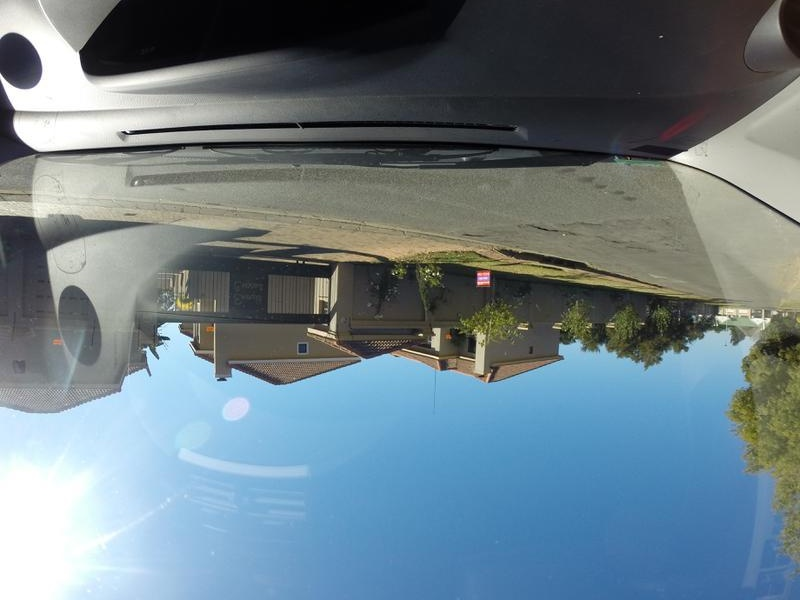pothole: (524, 220, 588, 240), (600, 223, 641, 246), (459, 231, 497, 238)
